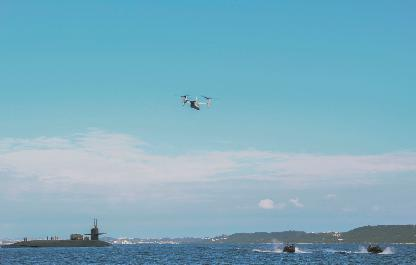Tornado: (173, 94, 219, 110)
